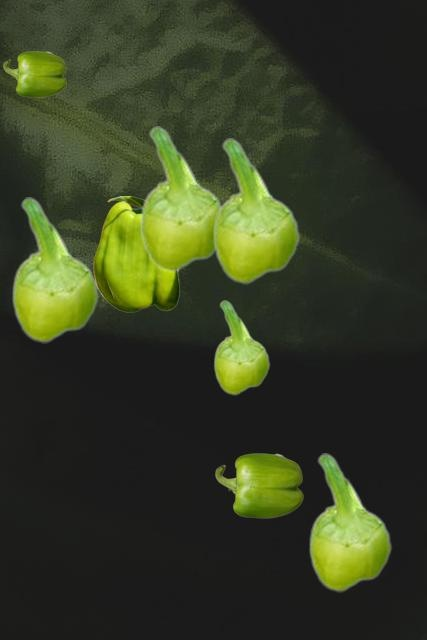bell_pepper: (11, 197, 98, 342), (212, 138, 299, 283), (139, 126, 223, 271), (308, 453, 391, 591), (93, 196, 180, 311), (215, 453, 302, 517), (213, 300, 269, 394), (3, 51, 65, 96)
